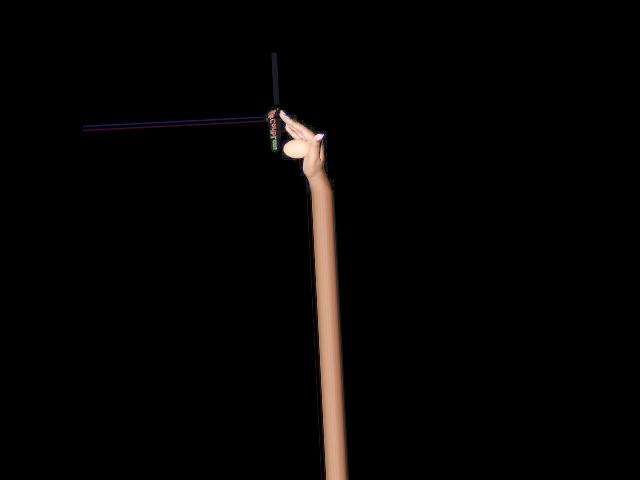egg: (283, 138, 309, 159)
